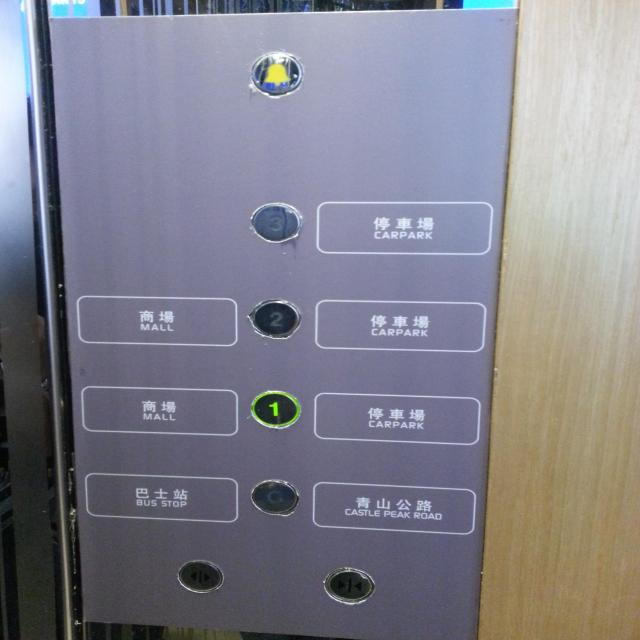1: (249, 388, 302, 430)
2: (246, 297, 304, 341)
3: (250, 200, 302, 244)
G: (249, 478, 299, 516)
alarm: (249, 50, 304, 100)
close: (324, 566, 376, 604)
open: (177, 560, 223, 592)
